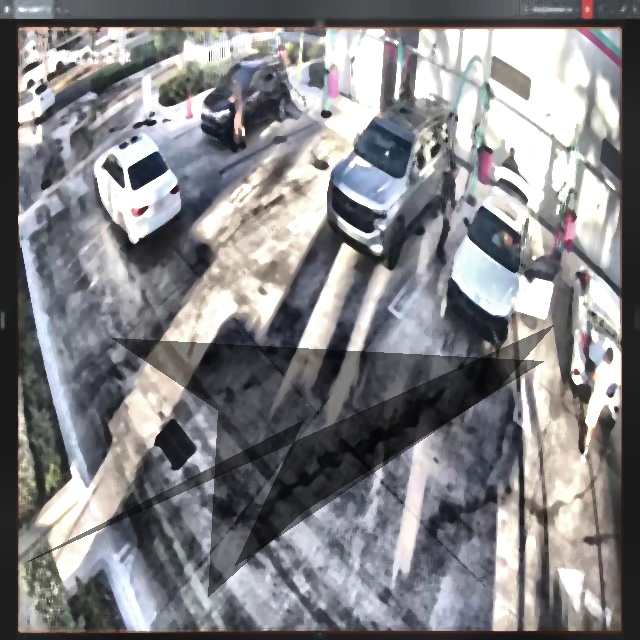Car: (326, 96, 452, 264), (450, 174, 550, 341), (96, 131, 180, 245)
